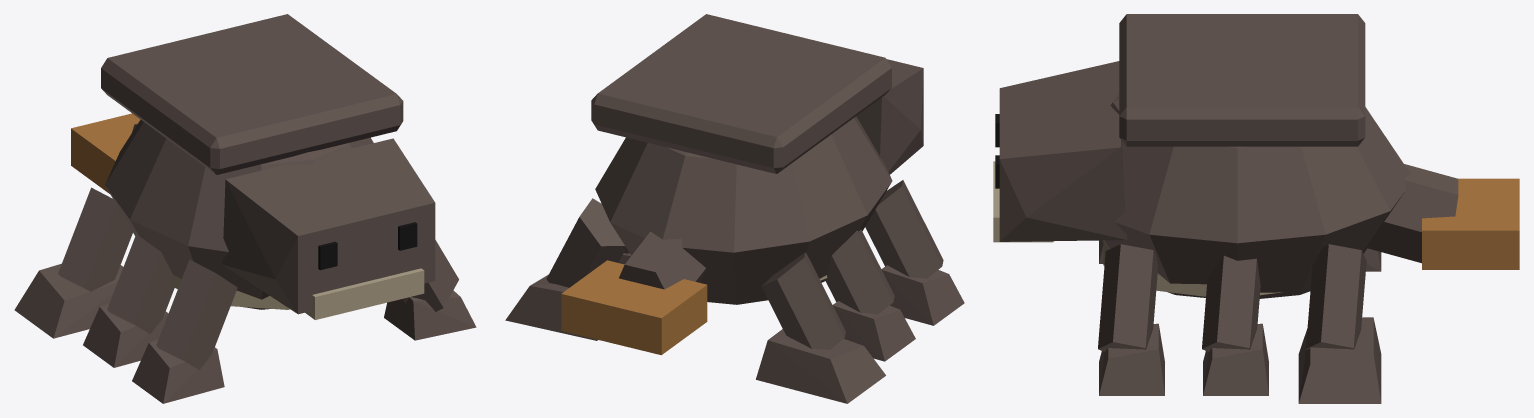
The model's file is sootnub.glb.
The picture shows the model from 3 angles, left to right: view 1: azimuth 30°, elevation 25°; view 2: azimuth 150°, elevation 25°; view 3: azimuth 270°, elevation 25°; orthographic projection. The views are drawn at different scales.
Parts seen in each view (by area): view 1: Sootnub; view 2: Sootnub; view 3: Sootnub.
Boxes of the visible parts, x1=… form: Sootnub: x1=14, y1=14, x2=476, y2=403; Sootnub: x1=505, y1=14, x2=964, y2=403; Sootnub: x1=993, y1=14, x2=1519, y2=403.
Bounding box in the file's own units: 0.48 × 0.32 × 0.6.
